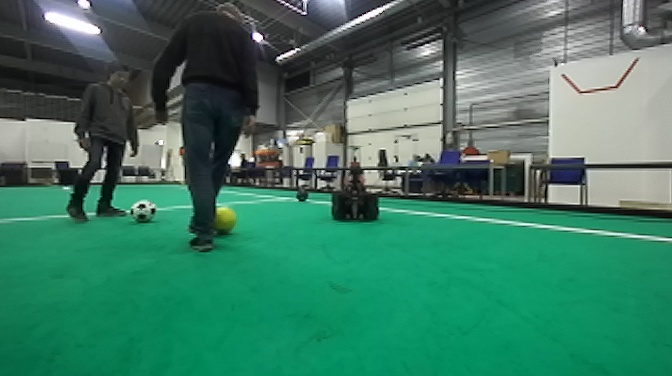ball: (130, 199, 159, 225), (214, 205, 237, 235), (294, 185, 310, 203)
human: (152, 8, 262, 255), (59, 62, 146, 221)
robot: (327, 141, 382, 224)
